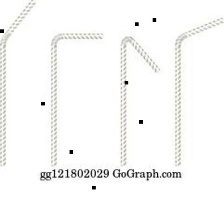drinking_straw: (44, 26, 106, 167), (169, 13, 224, 168), (113, 31, 164, 169), (0, 0, 38, 169)
